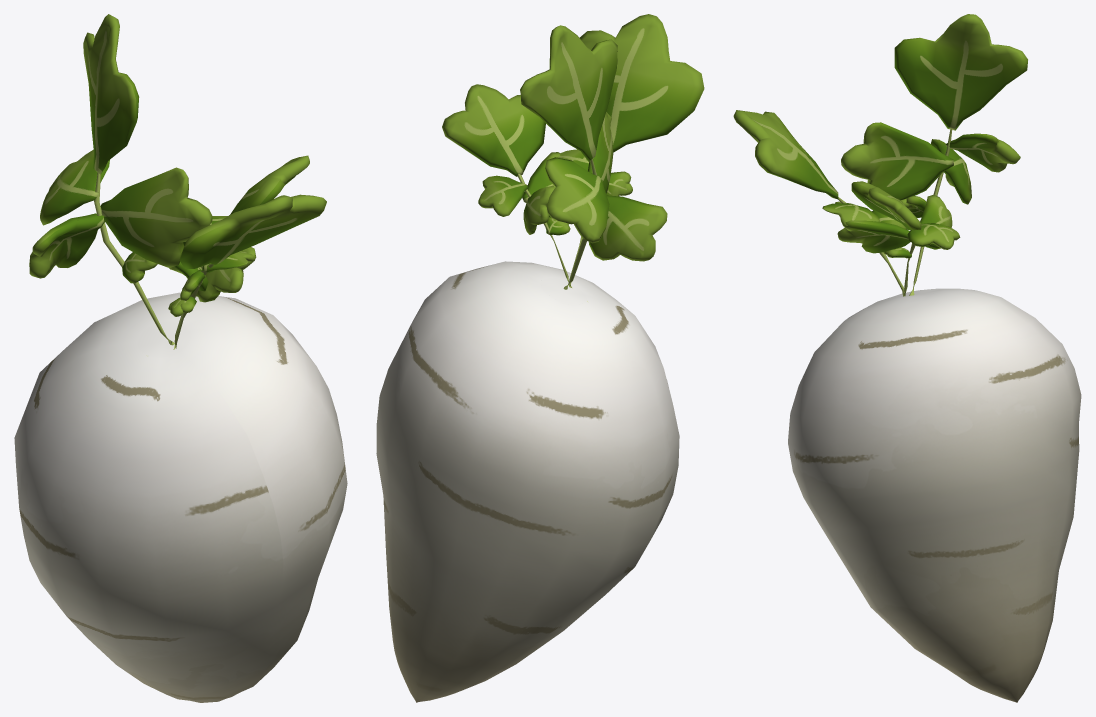
File: Veg_turnip_M.fbx
3 renders of one model, left to right at view 1: azimuth 30°, elevation 25°; view 2: azimuth 150°, elevation 25°; view 3: azimuth 270°, elevation 25°, orthographic. The views are drawn at different scales.
Visible parts, largest first — view 1: Cylinder.008; view 2: Cylinder.008; view 3: Cylinder.008.
Boxes of the visible parts, x1=… form: Cylinder.008: x1=14, y1=14, x2=347, y2=702; Cylinder.008: x1=376, y1=14, x2=704, y2=702; Cylinder.008: x1=733, y1=14, x2=1081, y2=702.
Bounding box in the file's own units: 20.49 × 17.08 × 41.32.
